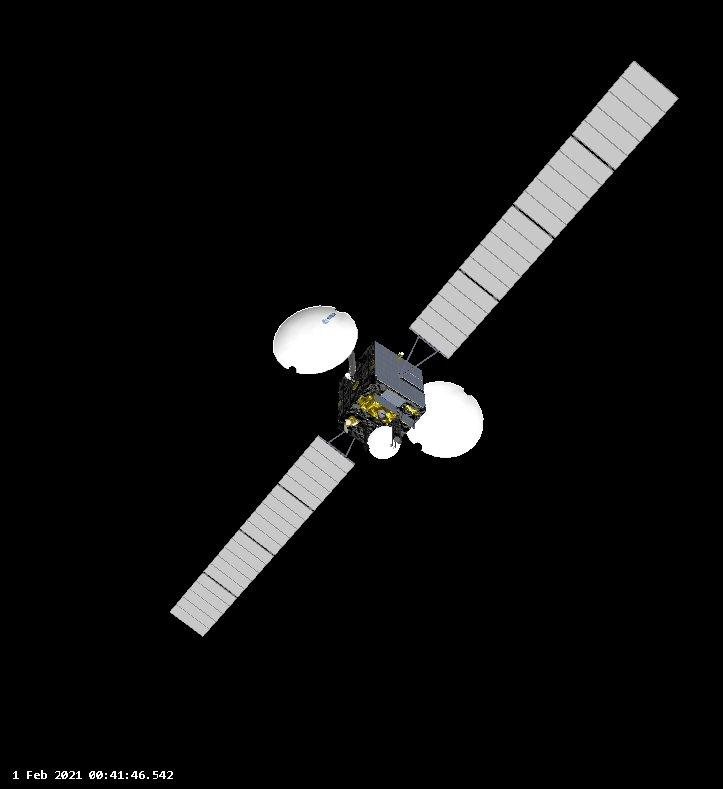antenna: (271, 303, 360, 377), (405, 379, 486, 460), (367, 424, 403, 461)
body: (335, 338, 428, 447)
solar: (407, 58, 682, 361), (167, 433, 357, 640)
